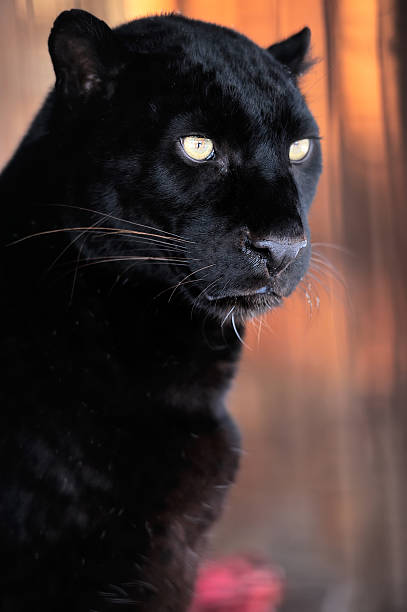panther: (31, 7, 399, 362)
